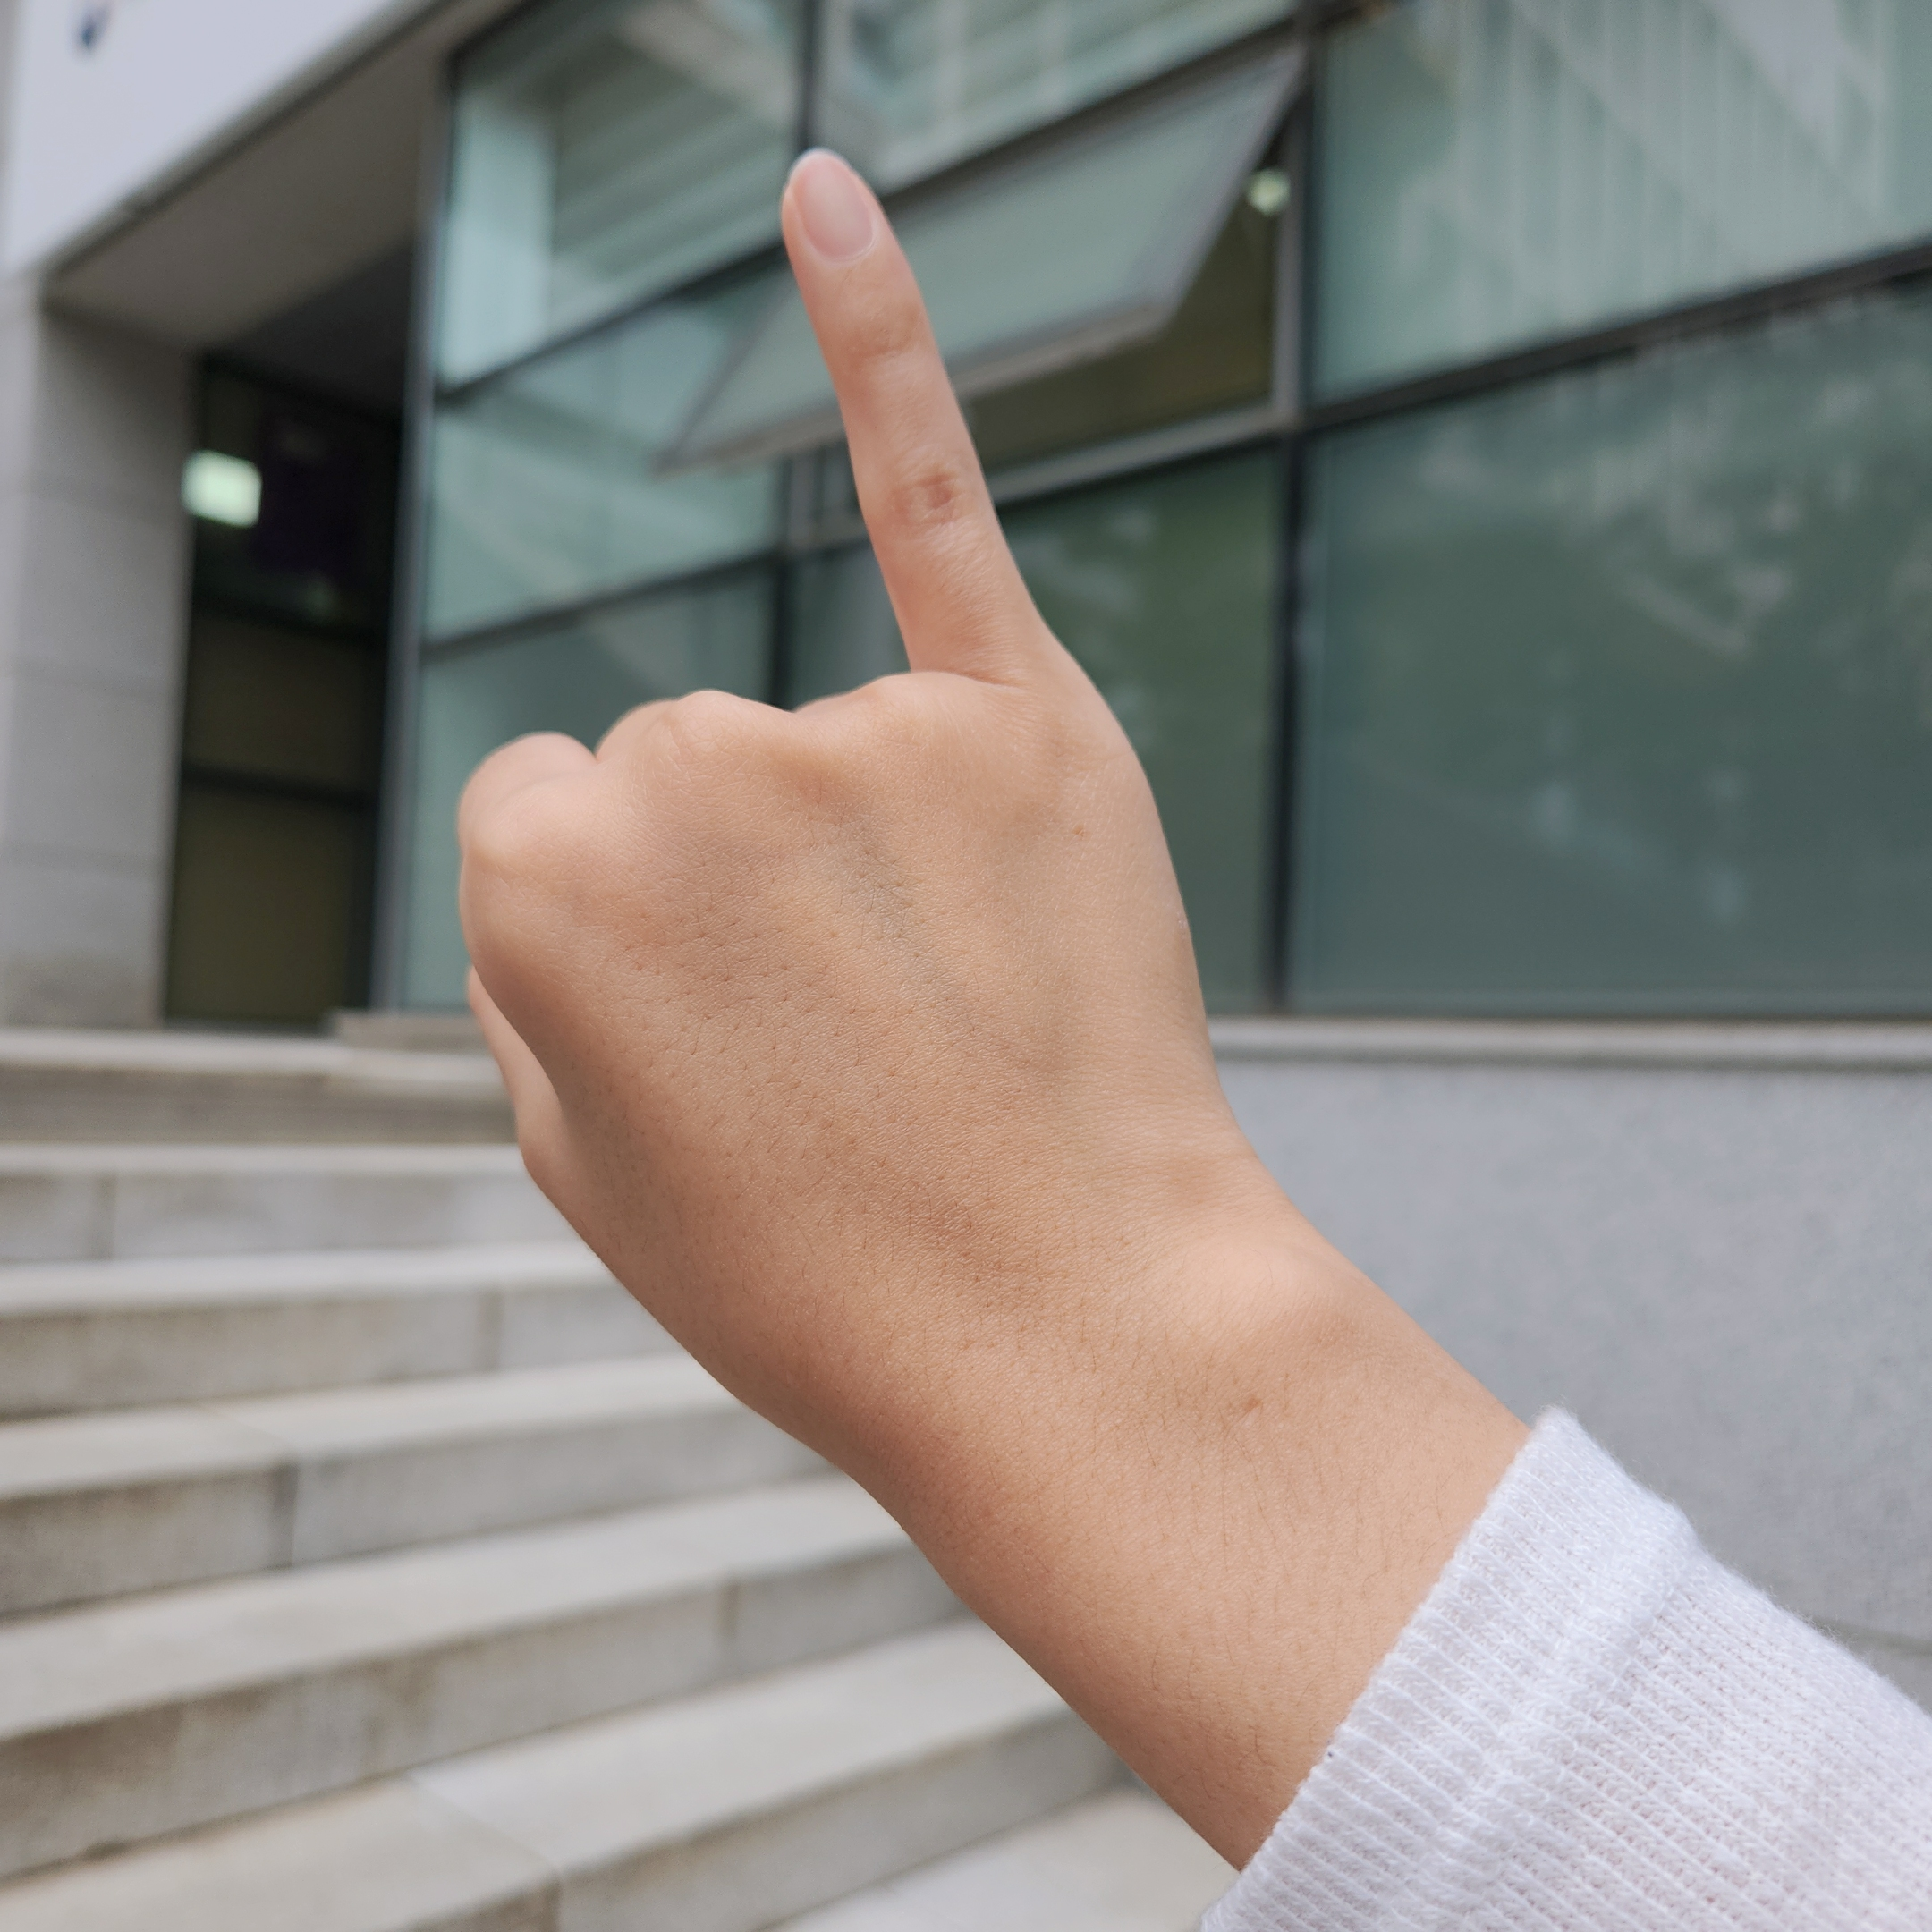fine: (462, 149, 1274, 1472)
